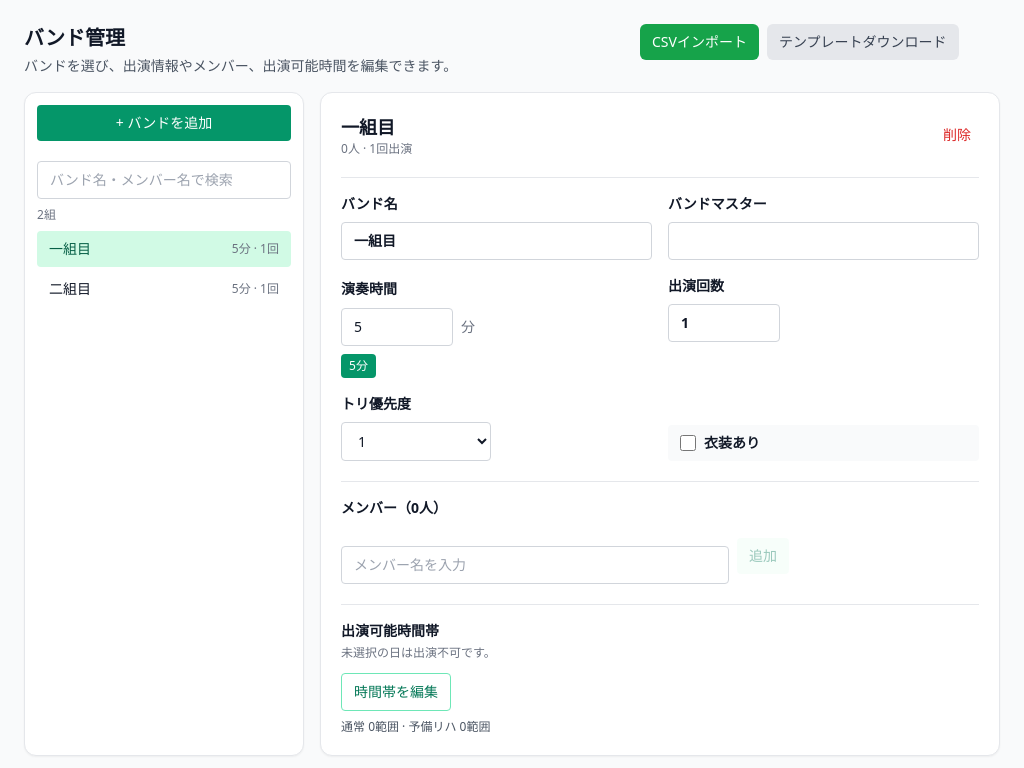
Test: shows matching member suggestions under the input and adds the selected member
The width and height of the screenshot is (1024, 768).
Type "山" into the dropdown named "追加するメンバー名" at x=535, y=565, box [341,546,729,584]
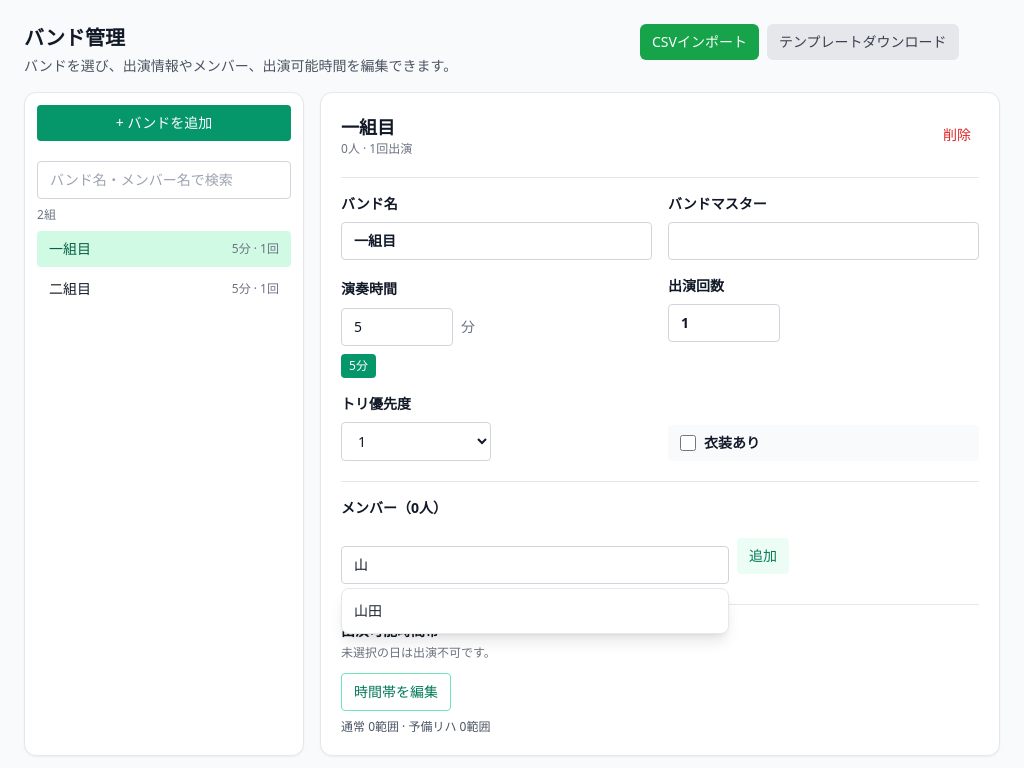
Expected: the list named "メンバー候補" is shown, [341,588,729,634]
Click the option "山田" at x=368, y=610, box [342,593,728,629]
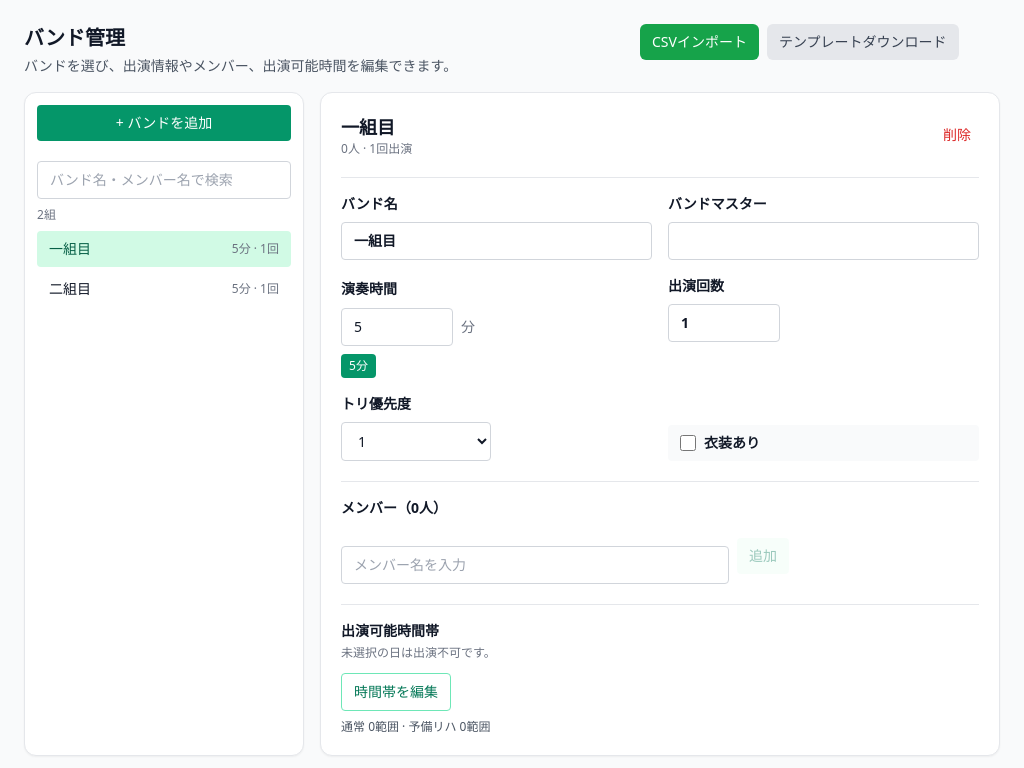
Expected: the list "メンバー候補" is gone
